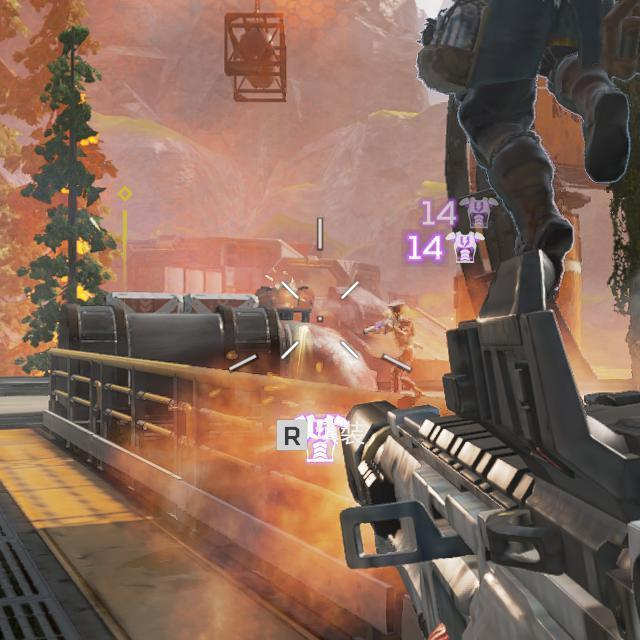avatar: (374, 299, 426, 400)
